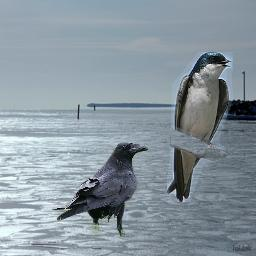Crow: (50, 142, 148, 237)
Swallow: (167, 52, 233, 202)
